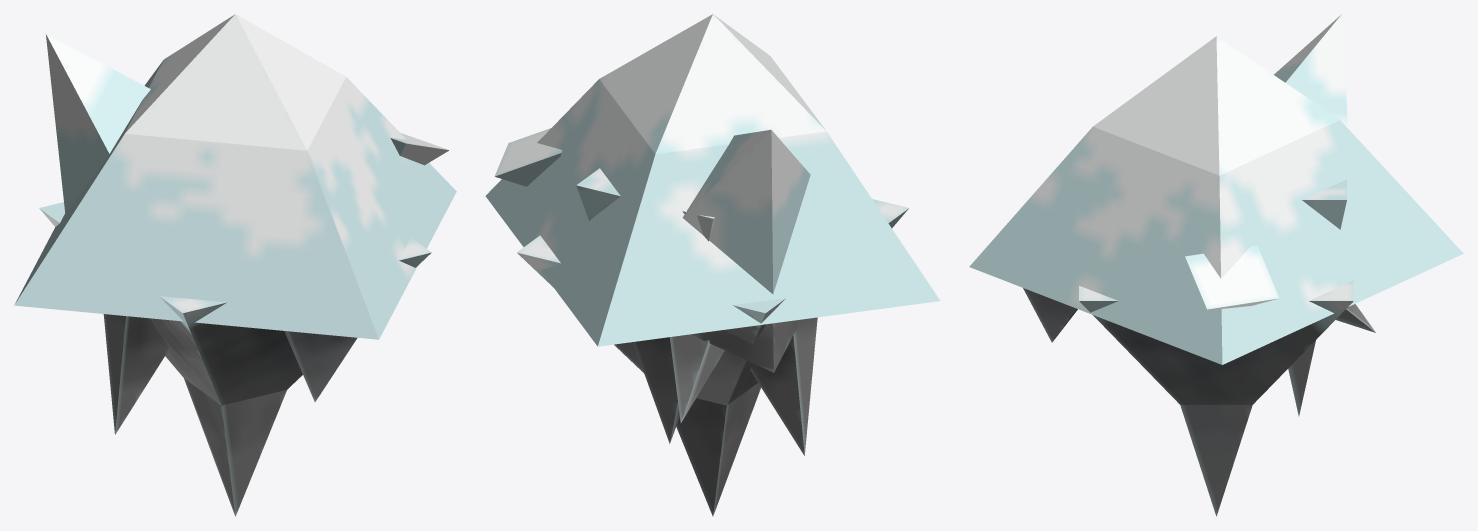
The model's file is INCEBERG.fbx.
The picture shows the model from 3 angles, left to right: view 1: azimuth 30°, elevation 25°; view 2: azimuth 150°, elevation 25°; view 3: azimuth 270°, elevation 25°; orthographic projection. The views are drawn at different scales.
Visible parts, largest first — view 1: pyramid_5, pyramid, pyramid_8, pyramid_3, pyramid_2, pyramid_7, pyramid_6; view 2: pyramid_5, pyramid_8, pyramid_3, pyramid, pyramid_2, pyramid_1, pyramid_4, pyramid_6; view 3: pyramid_5, pyramid, pyramid_3, pyramid_8, pyramid_6, pyramid_1, pyramid_7.
Part boxes in pixels (left/top/right/bottom): pyramid_5: left=14, top=14, right=456, bottom=339; pyramid: left=39, top=202, right=431, bottom=405; pyramid_8: left=46, top=34, right=150, bottom=213; pyramid_3: left=184, top=378, right=286, bottom=516; pyramid_2: left=103, top=314, right=169, bottom=434; pyramid_7: left=284, top=331, right=357, bottom=401; pyramid_6: left=390, top=133, right=449, bottom=165; pyramid_5: left=485, top=14, right=940, bottom=346; pyramid_8: left=682, top=129, right=810, bottom=372; pyramid_3: left=676, top=383, right=760, bottom=516; pyramid: left=517, top=199, right=908, bottom=405; pyramid_2: left=750, top=317, right=817, bottom=455; pyramid_1: left=576, top=168, right=715, bottom=443; pyramid_4: left=670, top=334, right=724, bottom=423; pyramid_6: left=494, top=128, right=562, bottom=186; pyramid_5: left=969, top=36, right=1463, bottom=364; pyramid: left=1079, top=280, right=1353, bottom=404; pyramid_3: left=1180, top=405, right=1252, bottom=516; pyramid_8: left=1274, top=14, right=1348, bottom=128; pyramid_6: left=1185, top=245, right=1279, bottom=310; pyramid_1: left=1288, top=179, right=1346, bottom=416; pyramid_7: left=1023, top=288, right=1077, bottom=342.
Bounding box in the file's own units: 113 × 121 × 112.
Materials: 1 (1 with a texture image).
